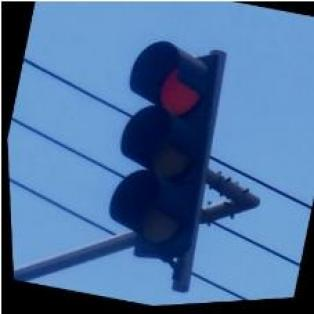Semaforo Rojo: (86, 32, 236, 270)
